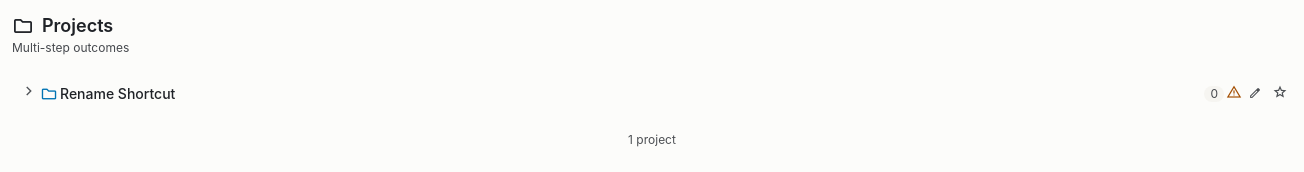
Test case: ProjectTree › enters edit mode from rename button
This screenshot has width=1304, height=172.
What coordinates should you click on to do the following:
click the button named "rename rename shortcut"
I would click on:
 (1255, 94)
Its box is [1244,78,1266,110].
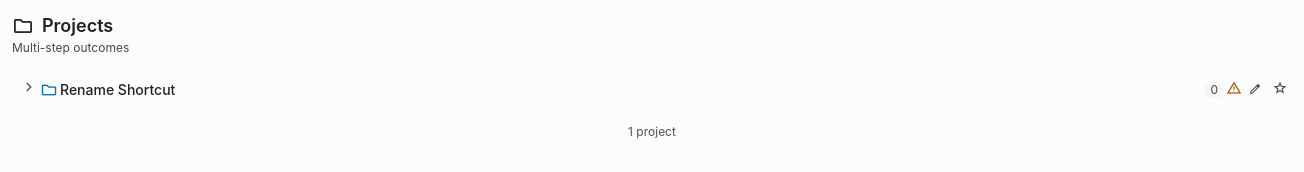
expect the text box showing "Rename Shortcut" is shown: met, box [60,80,1202,100]
